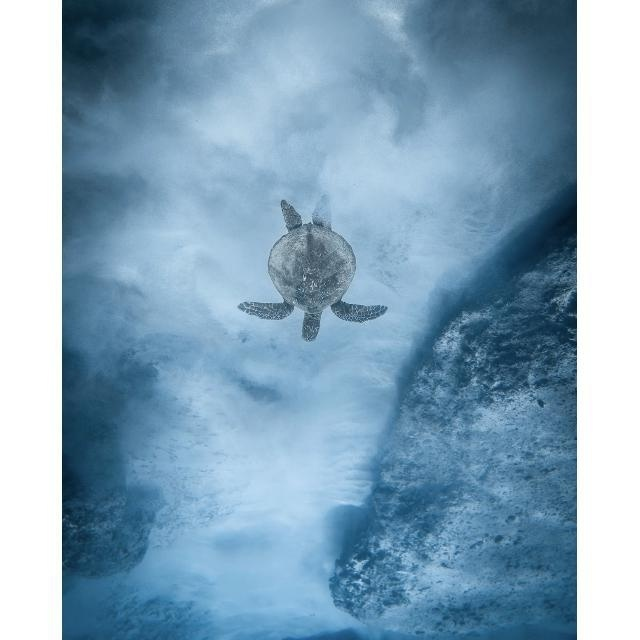turtle: (237, 194, 389, 342)
